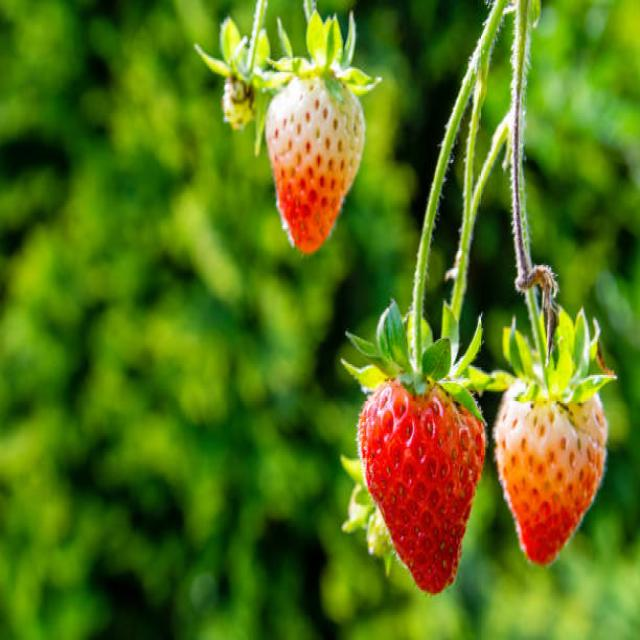Healthy Fruit: (358, 377, 485, 593), (496, 384, 610, 569), (267, 70, 368, 254)
